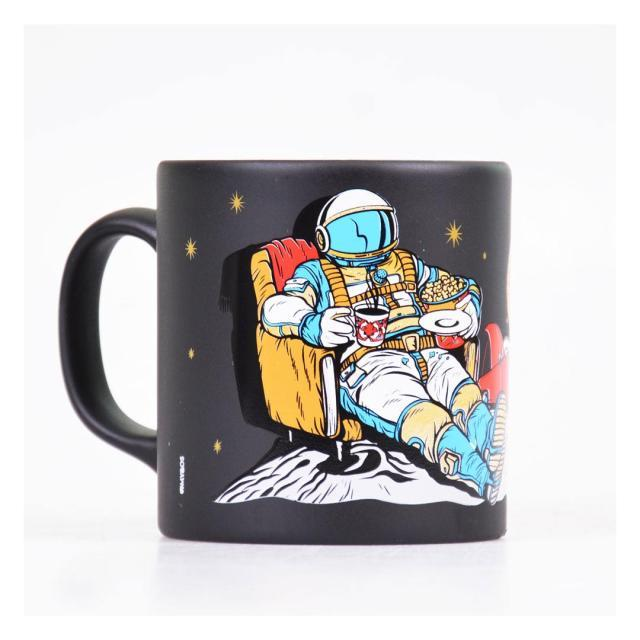Coffee Mug: (56, 158, 514, 548)
